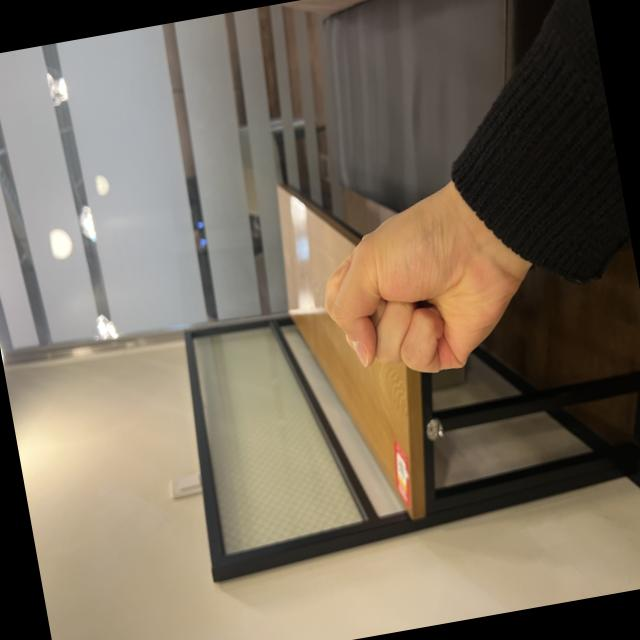Nail: (352, 339, 368, 366)
